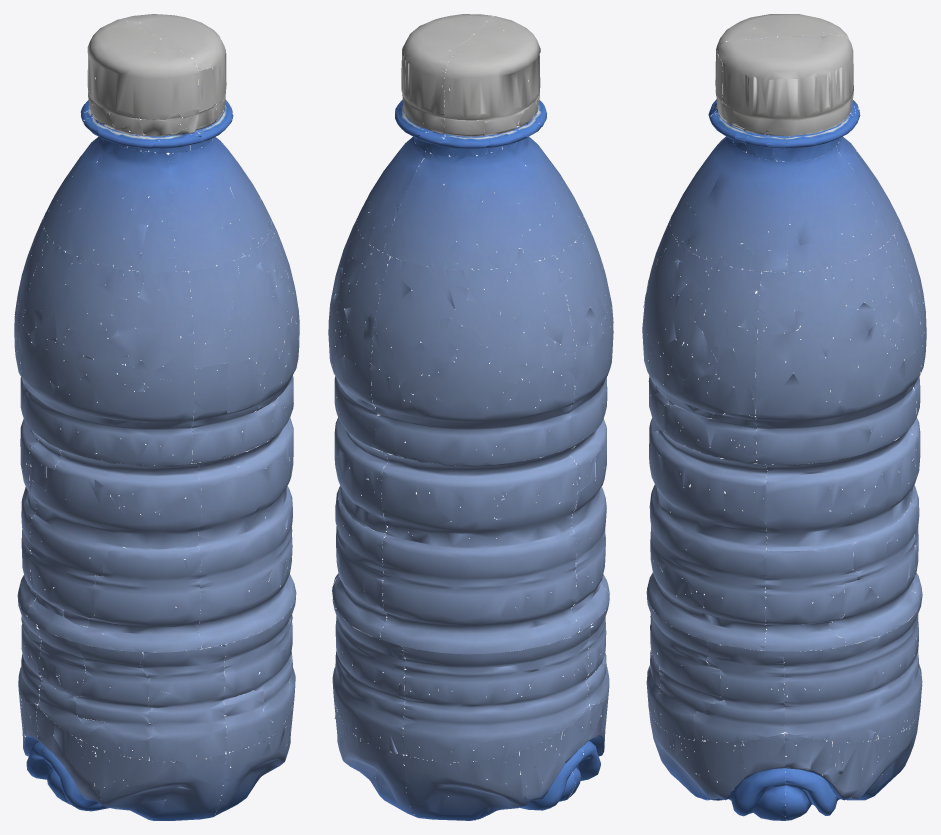
File: water.glb
3 renders of one model, left to right at view 1: azimuth 30°, elevation 25°; view 2: azimuth 150°, elevation 25°; view 3: azimuth 270°, elevation 25°, orthographic.
Parts seen in each view (by area): view 1: tripo_node_45c83604-c5d2-4fa0-ae89-b02e1d3c94f5; view 2: tripo_node_45c83604-c5d2-4fa0-ae89-b02e1d3c94f5; view 3: tripo_node_45c83604-c5d2-4fa0-ae89-b02e1d3c94f5.
Boxes of the visible parts, bbox=[...] form: tripo_node_45c83604-c5d2-4fa0-ae89-b02e1d3c94f5: bbox=[14, 14, 299, 820]; tripo_node_45c83604-c5d2-4fa0-ae89-b02e1d3c94f5: bbox=[328, 14, 613, 820]; tripo_node_45c83604-c5d2-4fa0-ae89-b02e1d3c94f5: bbox=[642, 14, 926, 820].
Size of the model in its own units: 0.3409 by 0.9799 by 0.34.
Materials: 1 (1 with a texture image).
